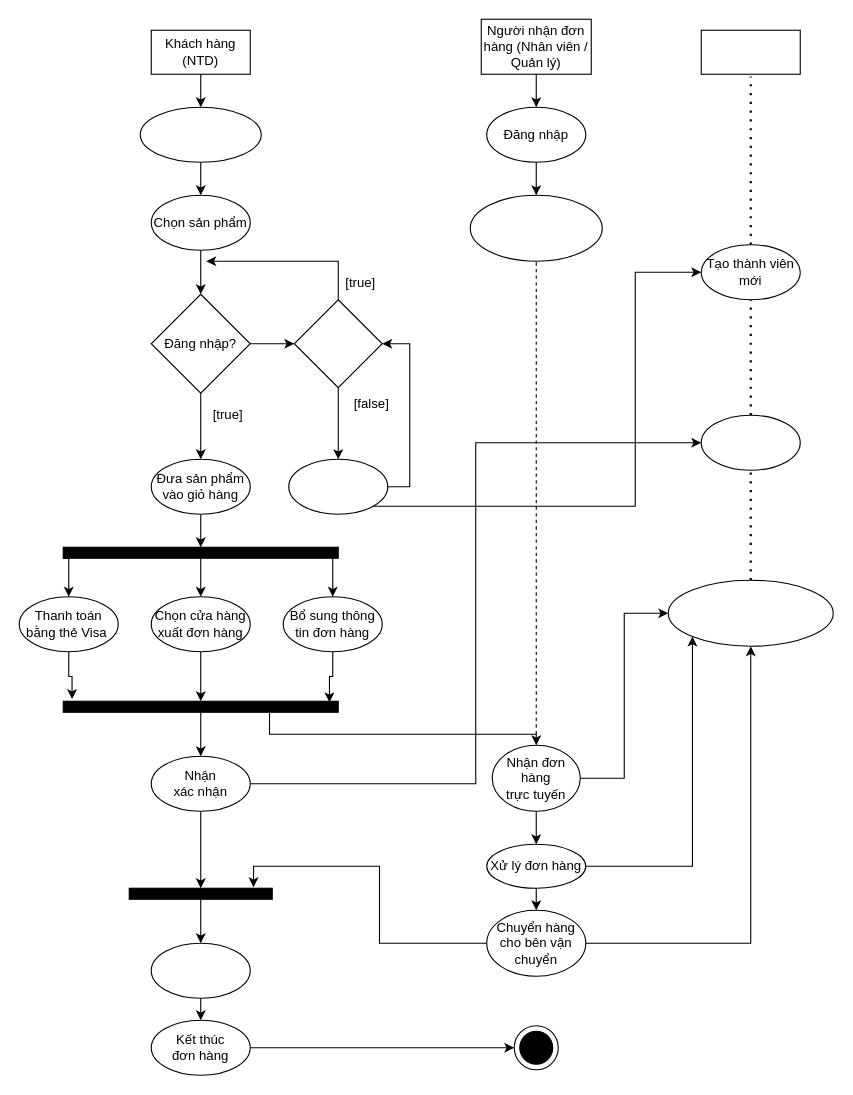
The diagram is 853 pixels wide and 1095 high, and some of its shapes have lost their labels. Each missing label, with the centre of its shape:
"Có tài khoản?" belongs at pixel 337 343.
"Hệ thống" belongs at pixel 750 51.
"Kiểm tra danh sách đơn hàng trực tuyến" belongs at pixel 535 227.
"Lưu đơn hàng" belongs at pixel 750 442.
"Nhận hàng" belongs at pixel 200 970.
"thay đổi và lưu tình trạng đơn hàng" belongs at pixel 750 612.
"Tìm kiếm sản phẩm" belongs at pixel 200 134.
"Đăng ký" belongs at pixel 338 486.
